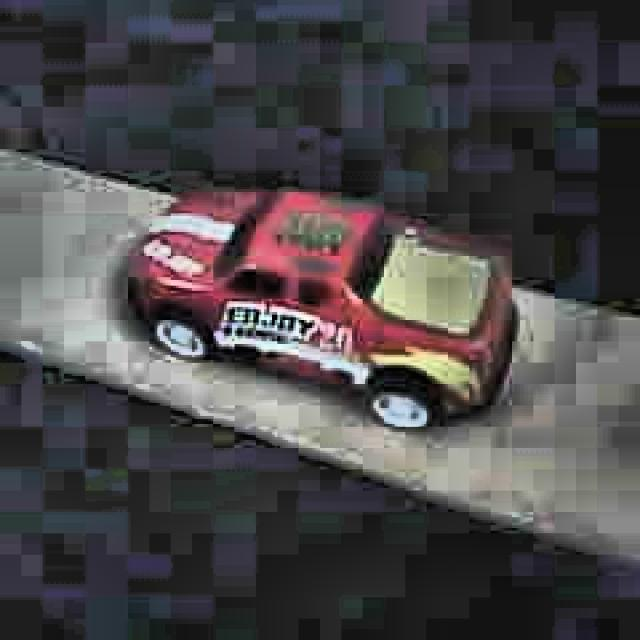car: (128, 182, 520, 436)
